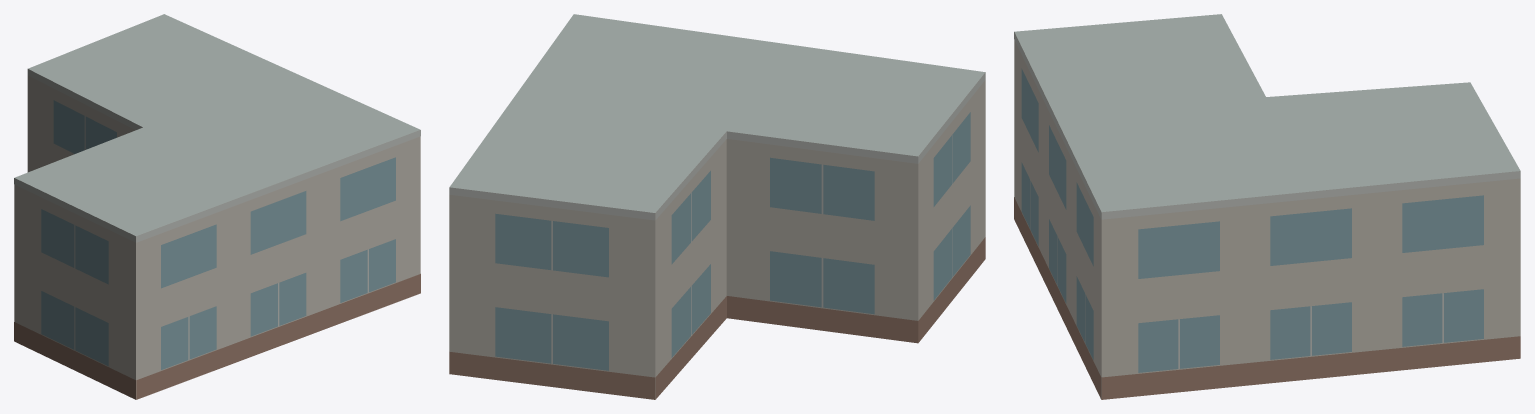
Rendered from survey-upis-32852084.glb.
3 views of the same model, side by side, from view 1: azimuth 30°, elevation 25°; view 2: azimuth 150°, elevation 25°; view 3: azimuth 270°, elevation 25° (orthographic). The views are drawn at different scales.
Parts seen in each view (by area): view 1: survey-upis-32852084.tmp; view 2: survey-upis-32852084.tmp; view 3: survey-upis-32852084.tmp.
Part boxes in pixels (x1=…): survey-upis-32852084.tmp: x1=14, y1=14, x2=420, y2=399; survey-upis-32852084.tmp: x1=449, y1=14, x2=985, y2=399; survey-upis-32852084.tmp: x1=1014, y1=14, x2=1520, y2=399.
Bounding box in the file's own units: 13.83 × 6.1 × 14.93.
